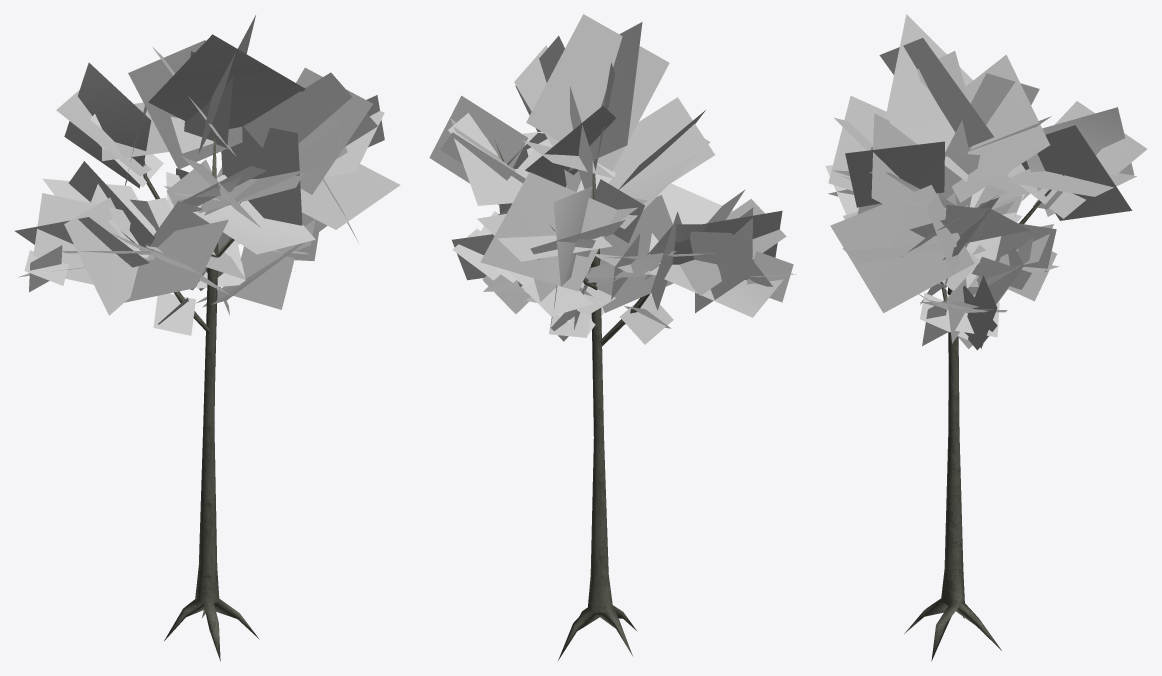
The model's file is Bleech_03.fbx.
3 views of the same model, side by side, from view 1: azimuth 30°, elevation 25°; view 2: azimuth 150°, elevation 25°; view 3: azimuth 270°, elevation 25° (orthographic). The views are drawn at different scales.
Parts seen in each view (by area): view 1: bleech_03.001; view 2: bleech_03.001; view 3: bleech_03.001.
Boxes of the visible parts, left/top/right/bottom form: bleech_03.001: left=15, top=15, right=400, bottom=661; bleech_03.001: left=429, top=14, right=795, bottom=660; bleech_03.001: left=825, top=14, right=1147, bottom=661.
Bounding box in the file's own units: 19.74 × 32.31 × 15.21.
